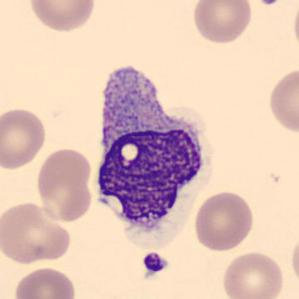Monocyte: (87, 55, 217, 250)
Platelets: (140, 250, 168, 276), (256, 0, 282, 7)
RBC: (34, 145, 95, 224), (0, 199, 73, 265), (192, 188, 256, 253), (219, 248, 285, 299), (0, 106, 48, 172), (190, 0, 254, 45), (26, 0, 98, 34), (12, 265, 78, 299), (266, 66, 298, 136), (288, 230, 299, 289), (291, 0, 299, 57)
